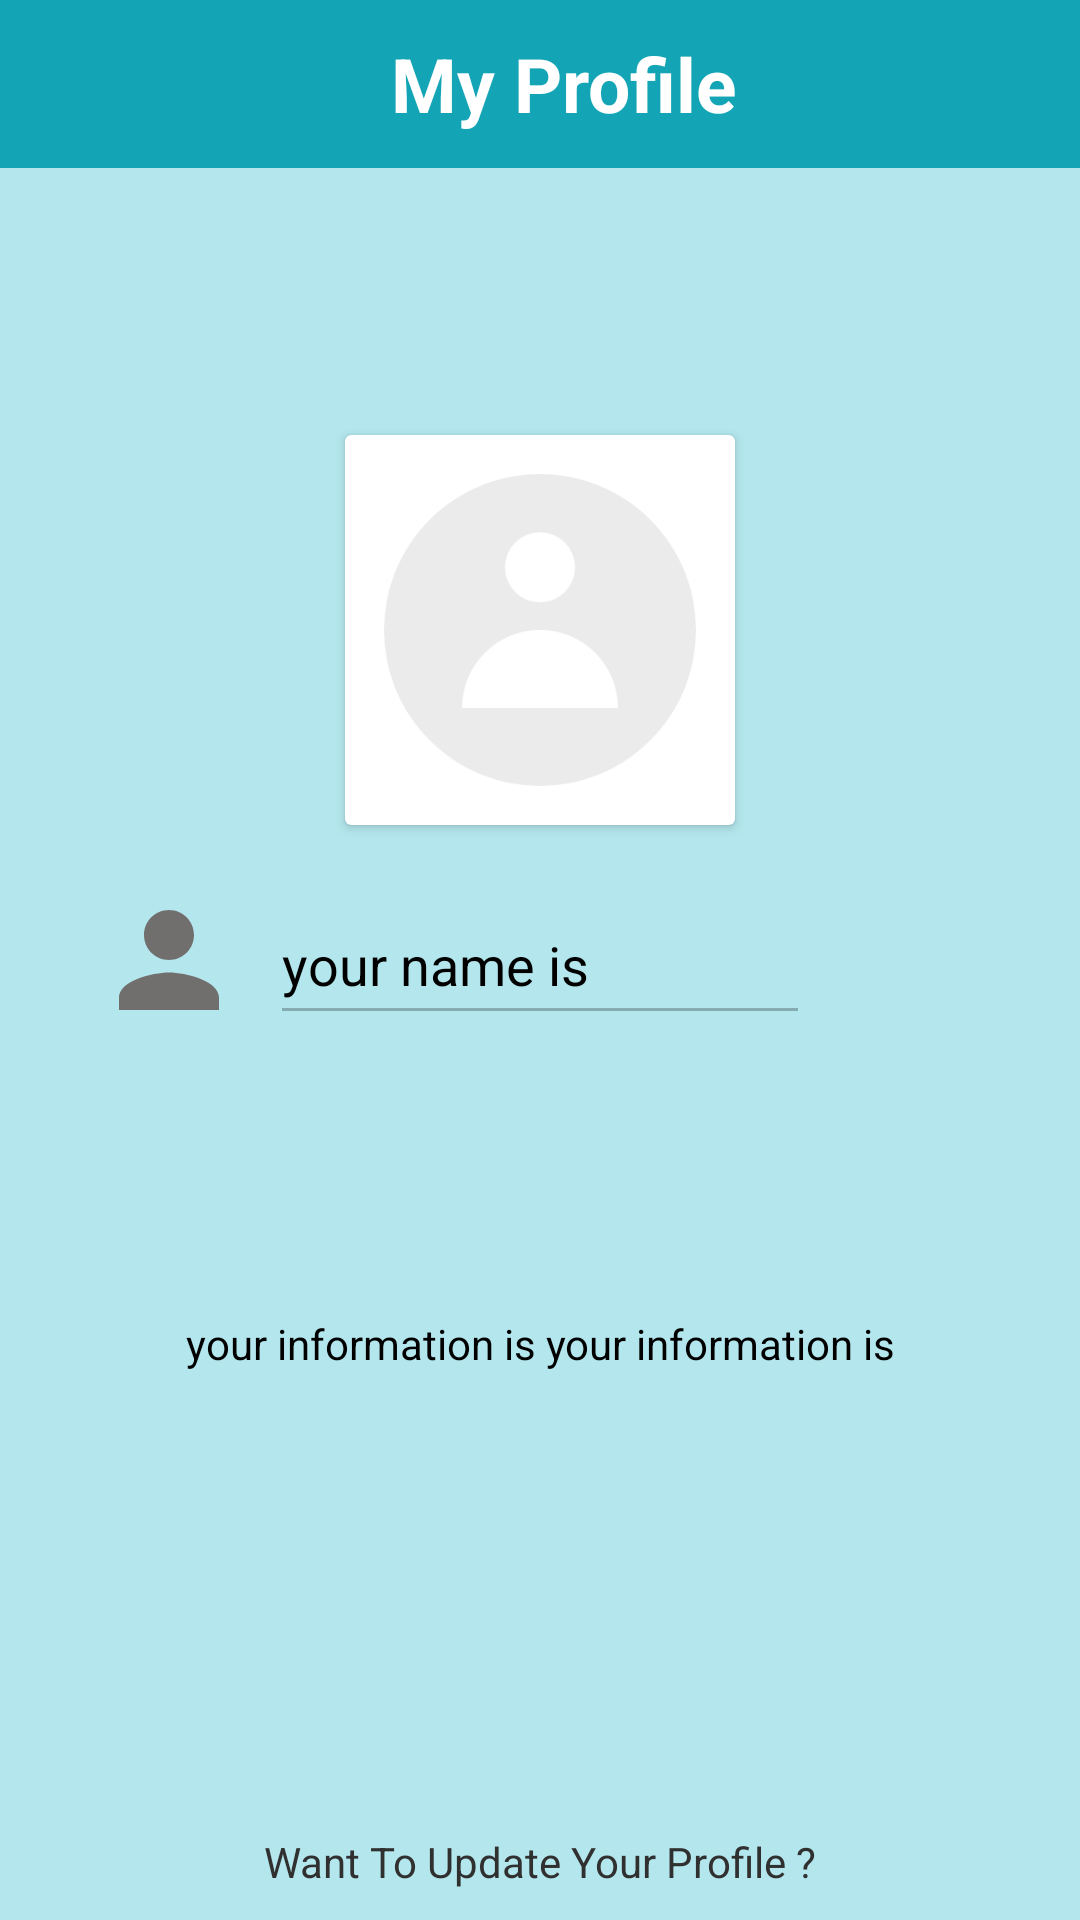

Icon click points for this 1080px×1920px phone screenshot, format [x,y]:
person: [169,960]
